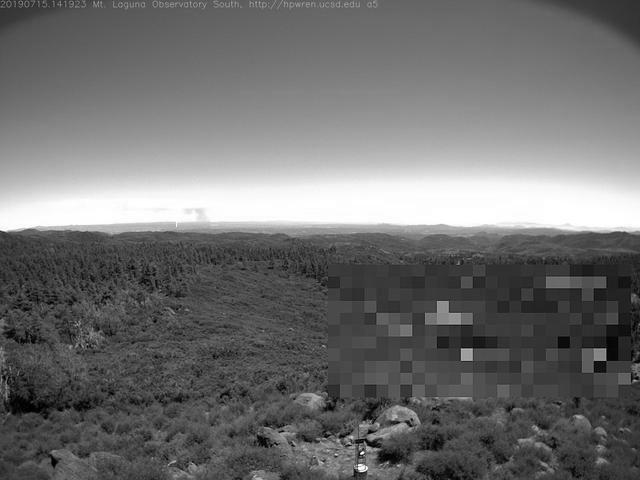smoke: (178, 205, 212, 232)
